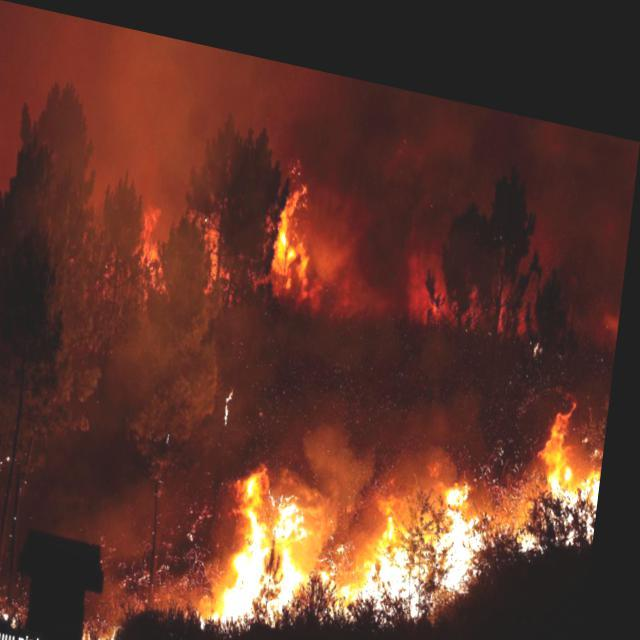Fire: (199, 317, 614, 639), (126, 135, 232, 292), (260, 160, 347, 300)
